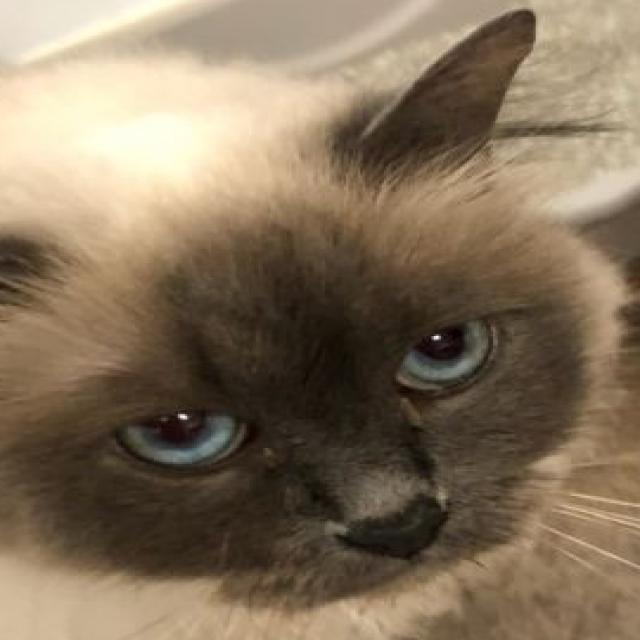Birman: (0, 3, 630, 640)
